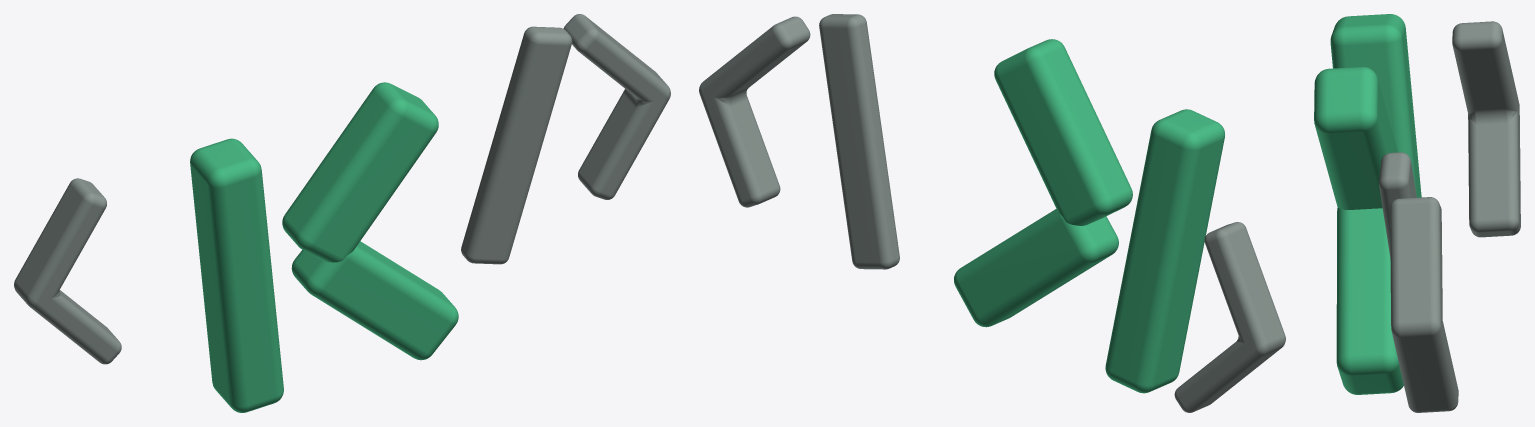
File: kraft-sculpture.glb
3 renders of one model, left to right at view 1: azimuth 30°, elevation 25°; view 2: azimuth 150°, elevation 25°; view 3: azimuth 270°, elevation 25°, orthographic. The views are drawn at different scales.
Visible parts, largest first — view 1: Kraft_Stem, Kraft_Upper, Kraft_Slash, Kraft_Lower, Kraft_BracketLeft, Kraft_BracketRight; view 2: Kraft_Stem, Kraft_Upper, Kraft_Slash, Kraft_Lower, Kraft_BracketRight, Kraft_BracketLeft; view 3: Kraft_BracketLeft, Kraft_BracketRight, Kraft_Lower, Kraft_Upper, Kraft_Stem, Kraft_Slash.
Part boxes in pixels (x1,y1,x2,y2): Kraft_Stem: (190, 138, 283, 412); Kraft_Upper: (282, 82, 438, 262); Kraft_Slash: (461, 26, 572, 264); Kraft_Lower: (291, 241, 458, 360); Kraft_BracketLeft: (14, 178, 121, 364); Kraft_BracketRight: (563, 14, 670, 199); Kraft_Stem: (1105, 109, 1224, 393); Kraft_Upper: (994, 39, 1132, 225); Kraft_Slash: (819, 14, 899, 269); Kraft_Lower: (954, 209, 1118, 327); Kraft_BracketRight: (699, 16, 810, 207); Kraft_BracketLeft: (1174, 222, 1285, 412); Kraft_BracketLeft: (1452, 21, 1520, 237); Kraft_BracketRight: (1390, 197, 1458, 412); Kraft_Lower: (1336, 207, 1403, 394); Kraft_Upper: (1314, 67, 1397, 209); Kraft_Stem: (1330, 14, 1421, 197); Kraft_Slash: (1379, 152, 1416, 255).
Size of the model in its own units: 5.78 by 2.74 by 1.56.
